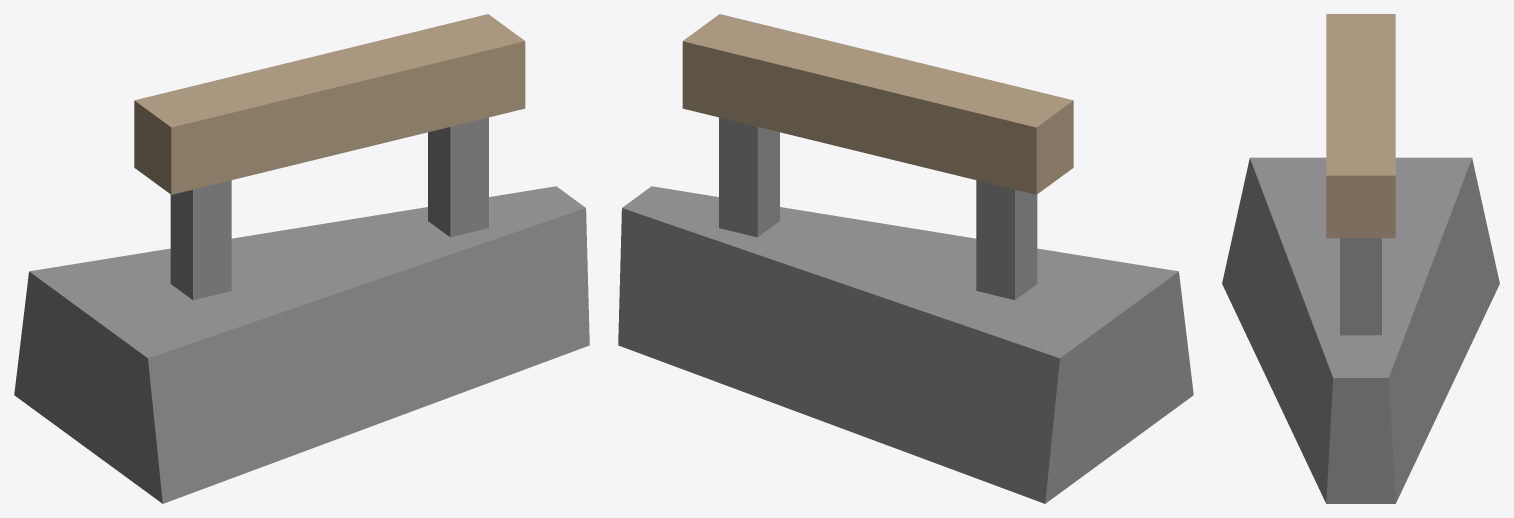
The model's file is prop-iron-flat-blank.fbx.
3 views of the same model, side by side, from view 1: azimuth 30°, elevation 25°; view 2: azimuth 150°, elevation 25°; view 3: azimuth 270°, elevation 25° (orthographic). The views are drawn at different scales.
Visible parts, largest first — view 1: prop-iron-flat-blank; view 2: prop-iron-flat-blank; view 3: prop-iron-flat-blank.
Part boxes in pixels (x1,y1,x2,y2): prop-iron-flat-blank: [14, 14, 589, 503]; prop-iron-flat-blank: [618, 14, 1193, 503]; prop-iron-flat-blank: [1222, 14, 1499, 503].
Bounding box in the file's own units: 15 × 9.5 × 8.
